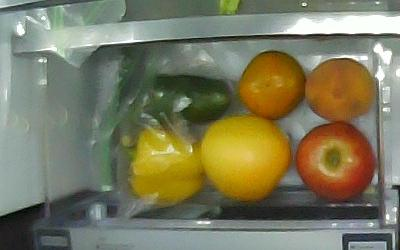apple: (296, 123, 375, 202)
grapefruit: (202, 115, 292, 202)
paprika_vinyl: (128, 128, 203, 207), (132, 74, 233, 124)
peach: (305, 58, 374, 122)
persimmon: (239, 51, 306, 120)
